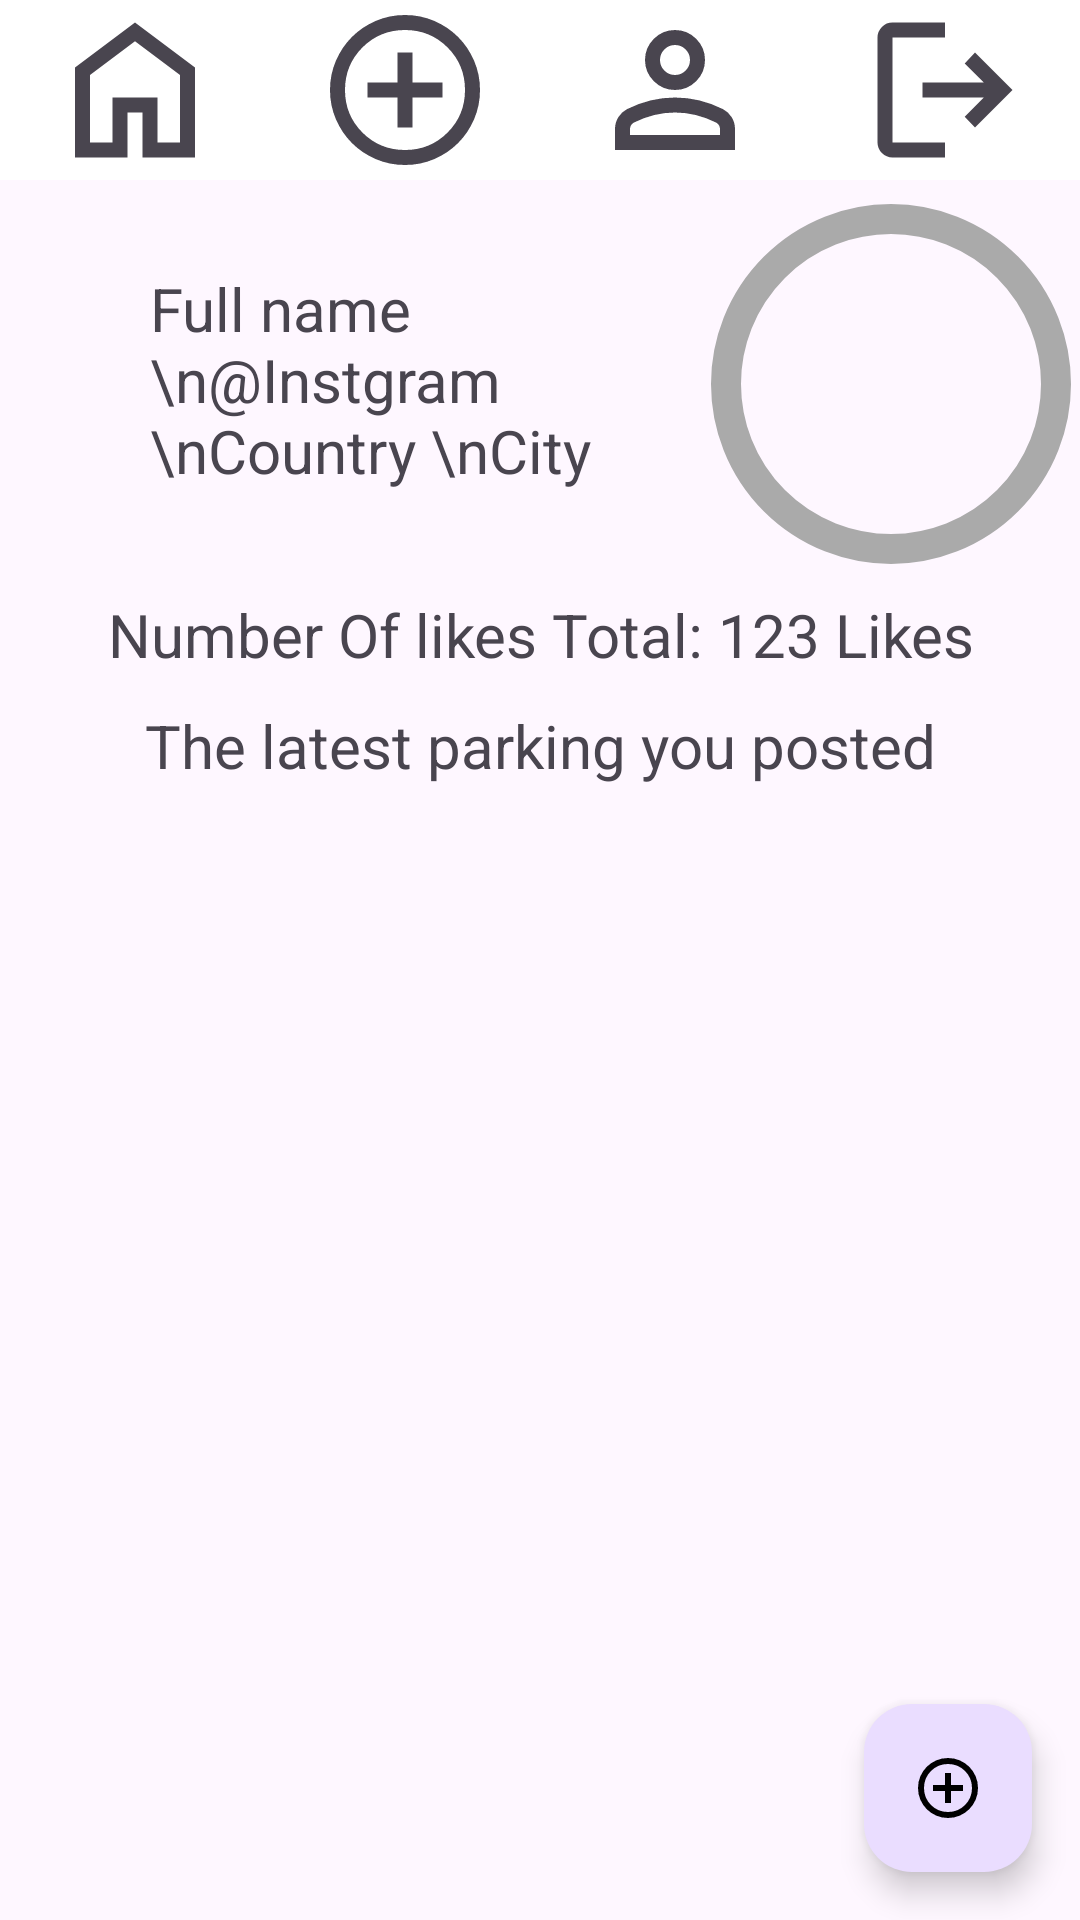

Named icons in this screenshot (1080w x 1920h) and their bounding boxes, bbox(x1, y1, x2, y2):
open add parking button: bbox(330, 15, 480, 165)
open home button: bbox(75, 22, 195, 158)
open profile button: bbox(615, 30, 735, 150)
plus: bbox(864, 1704, 1032, 1872)
